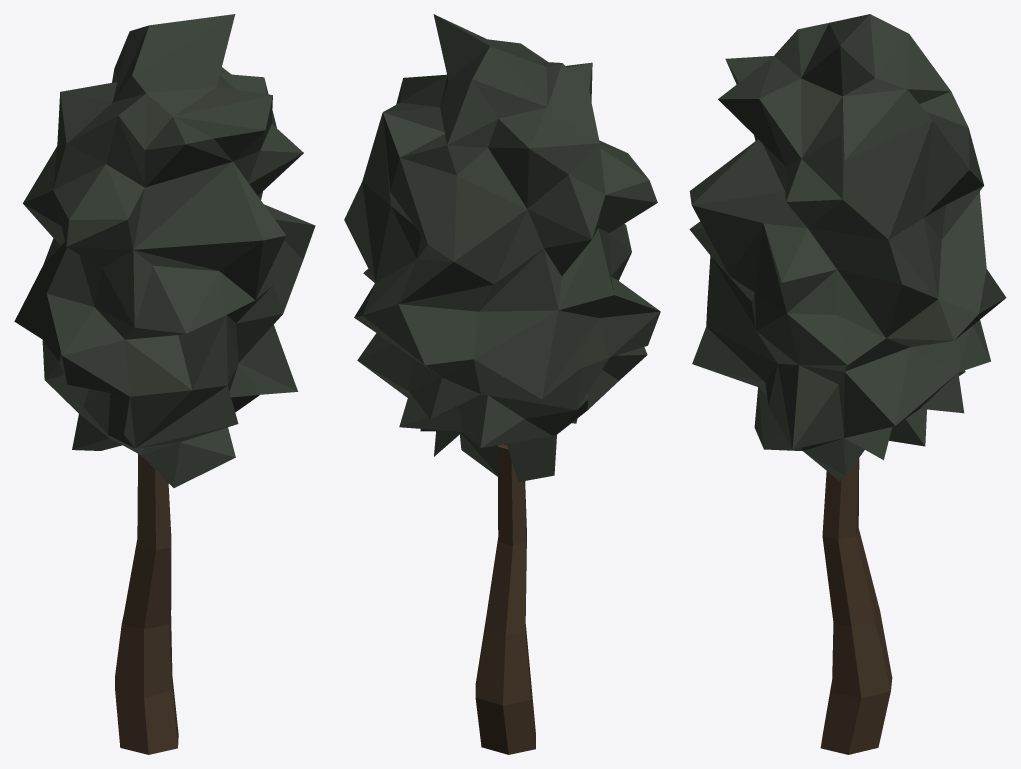
Rendered from Rough Tree.fbx.
The picture shows the model from 3 angles, left to right: view 1: azimuth 30°, elevation 25°; view 2: azimuth 150°, elevation 25°; view 3: azimuth 270°, elevation 25°; orthographic projection. The views are drawn at different scales.
Visible parts, largest first — view 1: pCube1012; view 2: pCube1012; view 3: pCube1012.
Part boxes in pixels (left/top/right/bottom): pCube1012: left=14, top=14, right=315, bottom=754; pCube1012: left=344, top=14, right=660, bottom=754; pCube1012: left=689, top=14, right=1006, bottom=754.
Bounding box in the file's own units: 9.52 × 24.06 × 9.39.
